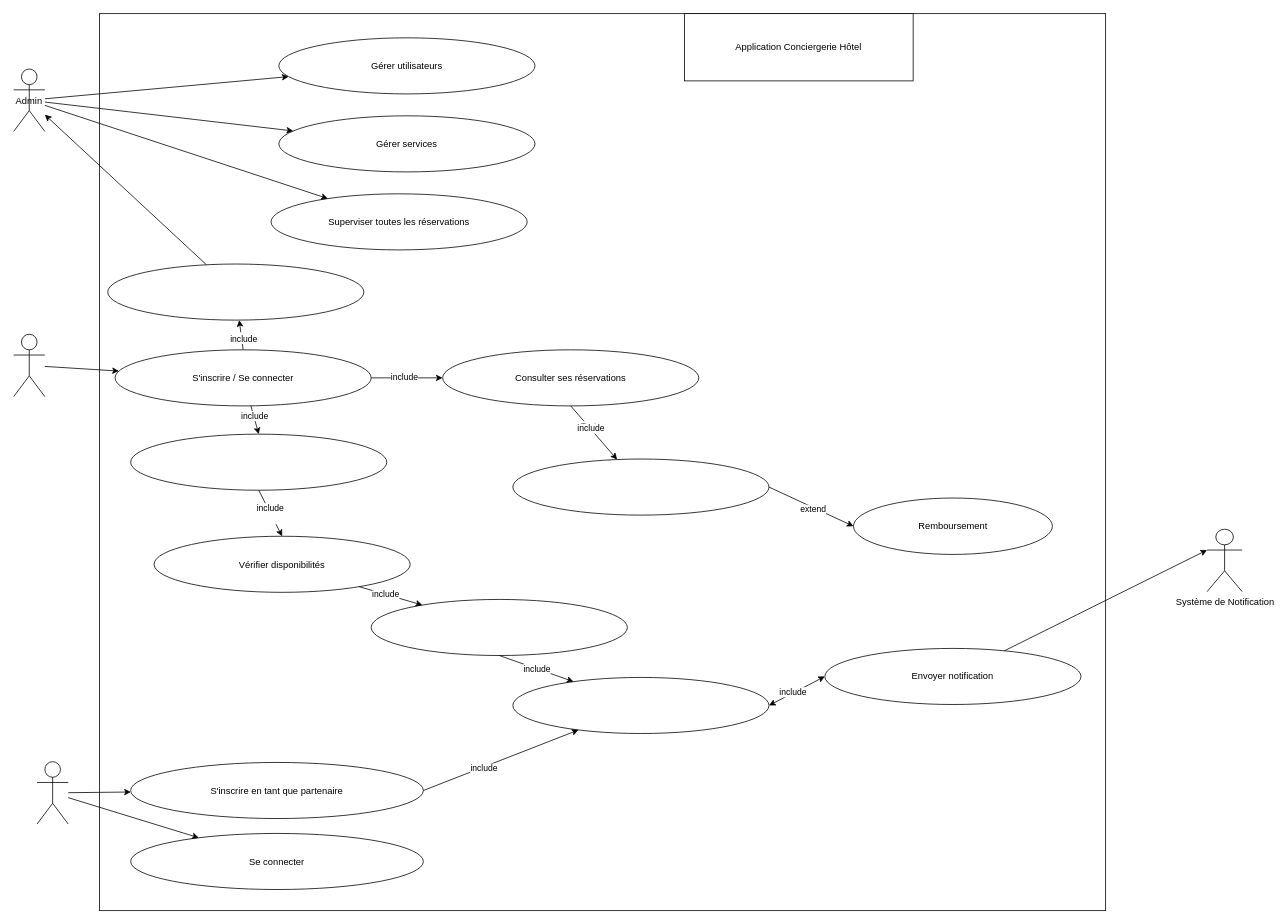
This 1287x924 diagram has some shape labels left out. Each missing label, with the centre of its shape:
Annuler ses réservations: [640,486]
Consulter les services: [258,461]
Contacter l'admin: [235,291]
Effectuer paiement: [640,705]
Partner: [52,792]
Réserver un service: [498,627]
User: [29,365]
